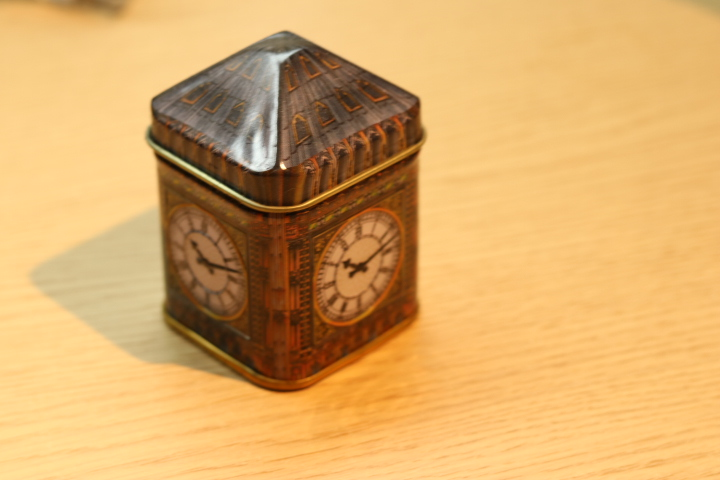Big Ben: (138, 17, 451, 396)
